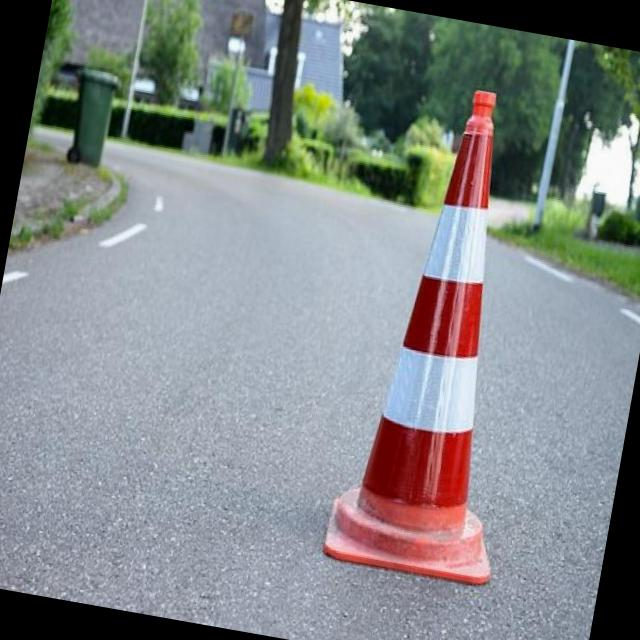Cone: (312, 71, 574, 600)
